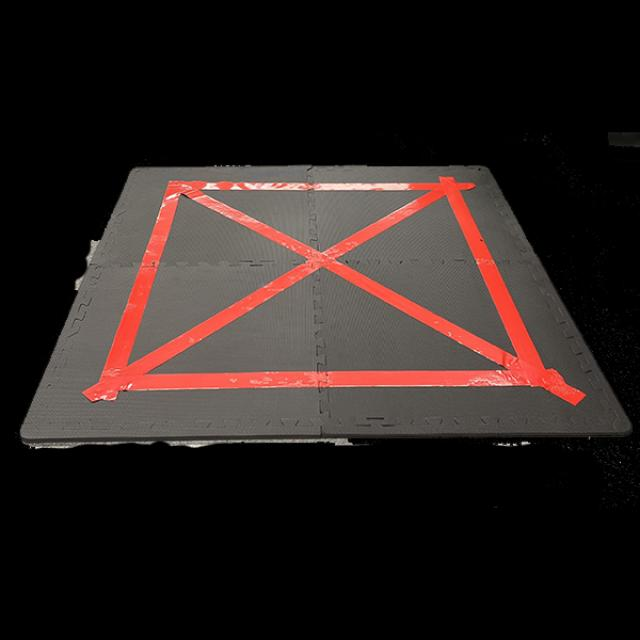landingPads: (20, 159, 630, 444)
